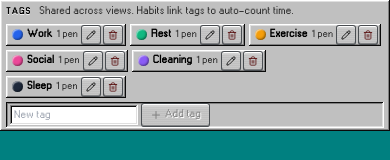
Test: TrackingTagsPanel › deletes a tag after confirm
The image size is (390, 160).
Click the button named "Delete tag Rest" at (232, 34), box [223,26,241,44]
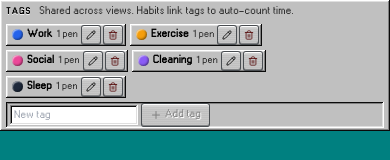
Check: the text "Rest" is gone
